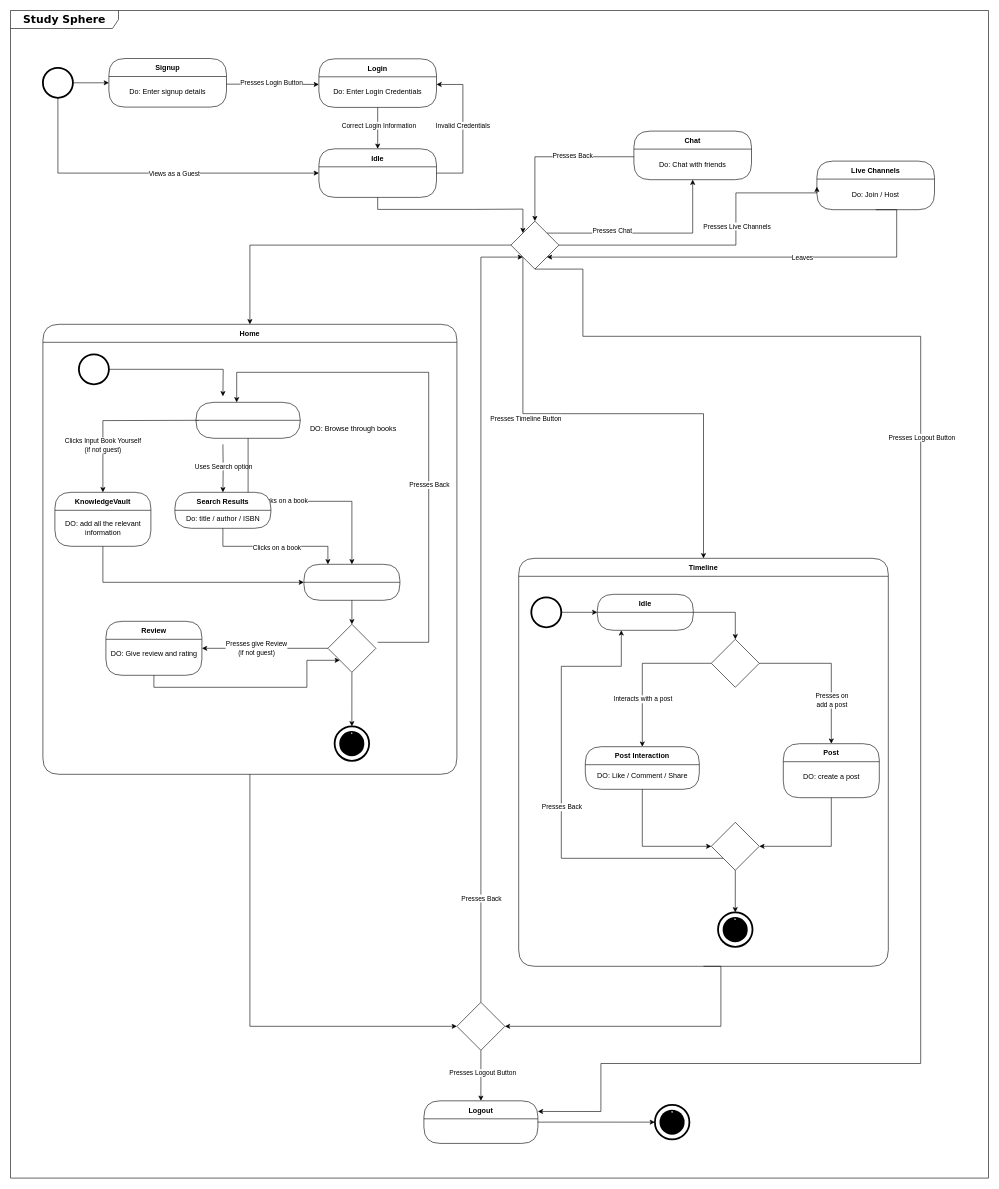
Some shapes in this 999 by 1189 pixel diagram are drawn without their labels. Each missing label, with the centre of its shape:
Book Information: pixel 351 582
Dashboard: pixel 247 420
